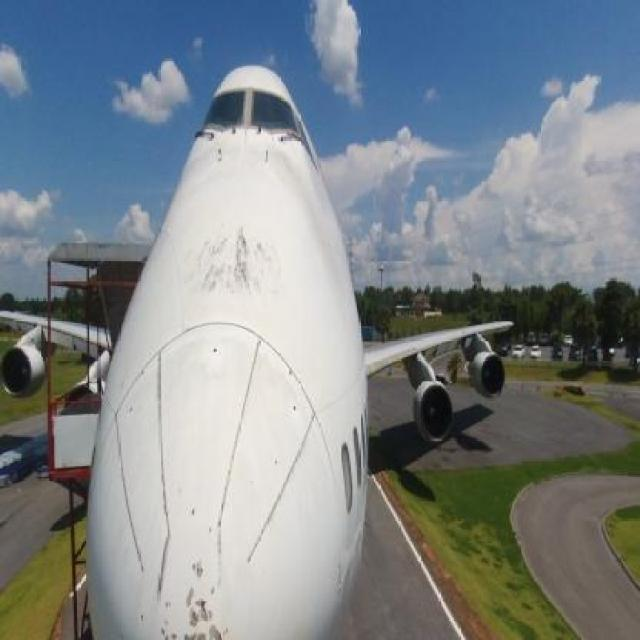Scartch: (105, 500, 266, 640), (171, 206, 304, 332)
